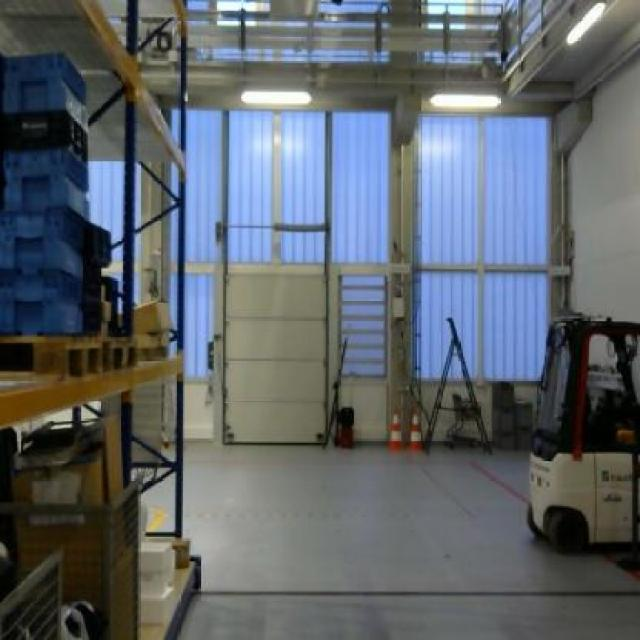box: (134, 295, 177, 334)
